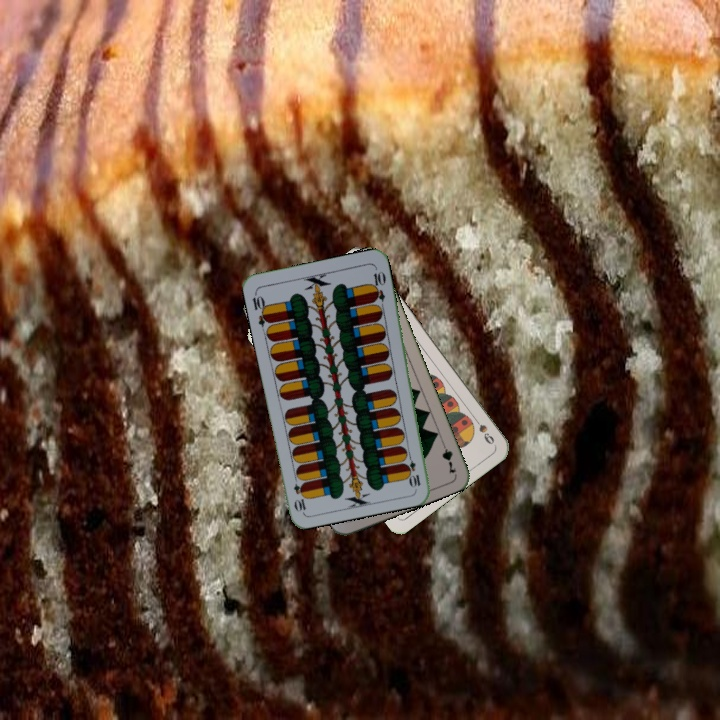E10: (248, 288, 273, 329), (403, 449, 424, 490)
G7: (437, 436, 459, 476)
S9: (469, 412, 497, 447)
